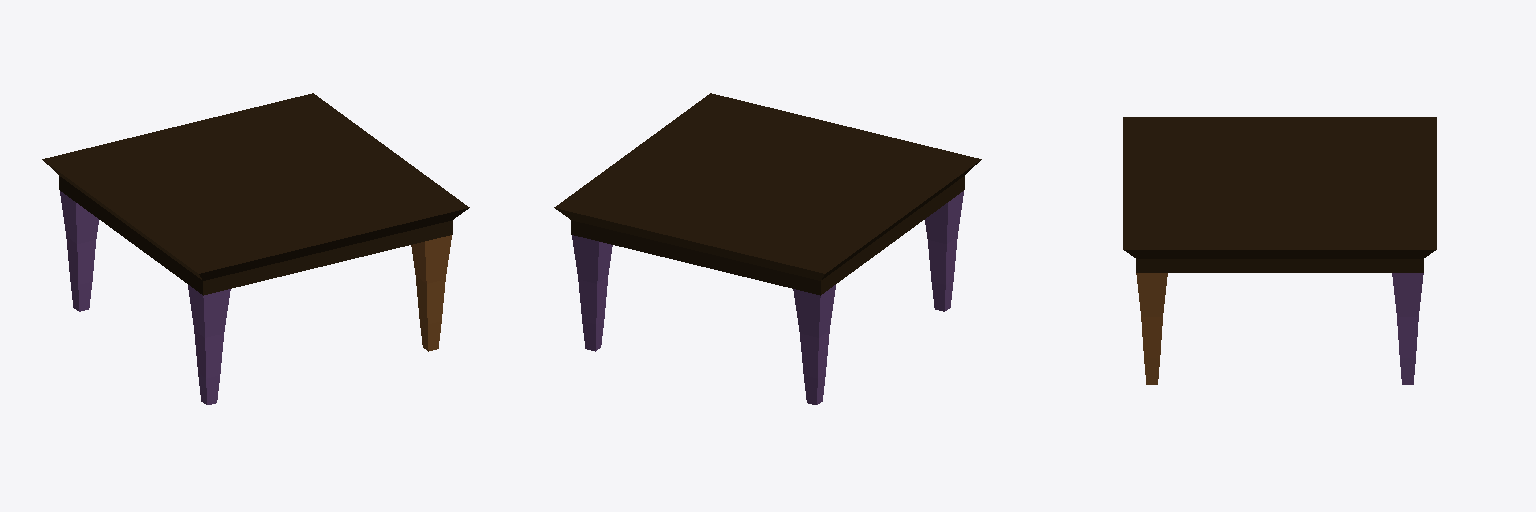
File: TableRemake1OBJ.obj
3 views of the same model, side by side, from view 1: azimuth 30°, elevation 25°; view 2: azimuth 150°, elevation 25°; view 3: azimuth 270°, elevation 25° (orthographic).
Parts seen in each view (by area): view 1: pCube1, pCube1 pCube2 pCube4 pCube3 pCube5; view 2: pCube1, pCube1 pCube2 pCube4 pCube3 pCube5; view 3: pCube1, pCube1 pCube2 pCube4 pCube3 pCube5.
Boxes of the visible parts, <box> form: pCube1: <box>42,93,469,295</box>; pCube1 pCube2 pCube4 pCube3 pCube5: <box>60,191,451,404</box>; pCube1: <box>554,93,981,295</box>; pCube1 pCube2 pCube4 pCube3 pCube5: <box>572,191,963,404</box>; pCube1: <box>1123,117,1436,272</box>; pCube1 pCube2 pCube4 pCube3 pCube5: <box>1136,273,1423,384</box>.
Bounding box in the file's own units: 4.9 × 2.5 × 4.9.